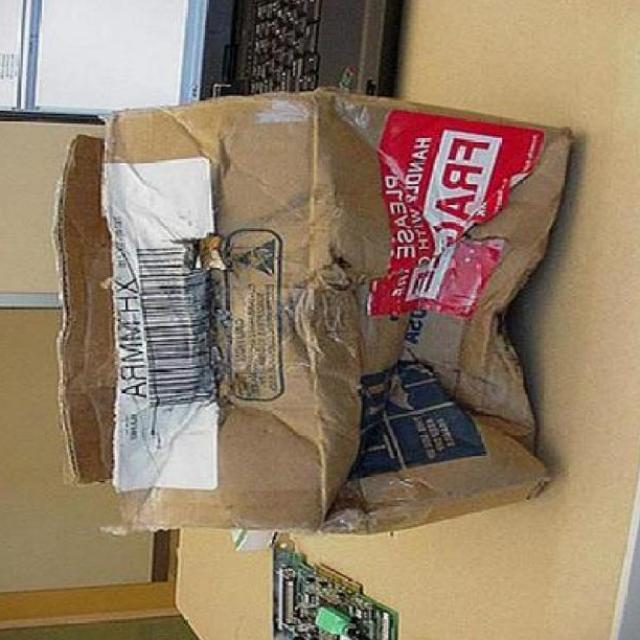box: (48, 89, 573, 533)
crushed: (324, 283, 560, 492), (158, 302, 314, 472)
opened: (54, 116, 129, 499)
